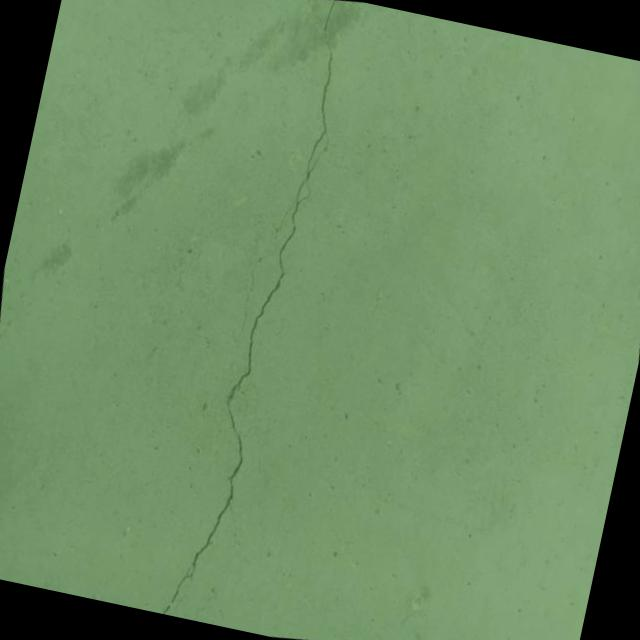crack: (71, 0, 416, 639), (158, 540, 240, 627)
